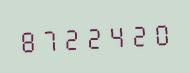eight: (17, 24, 38, 55)
four: (105, 19, 126, 51)
seven: (39, 22, 60, 54)
two: (61, 21, 82, 53), (83, 20, 104, 52), (127, 18, 148, 50)
zero: (149, 17, 170, 49)
